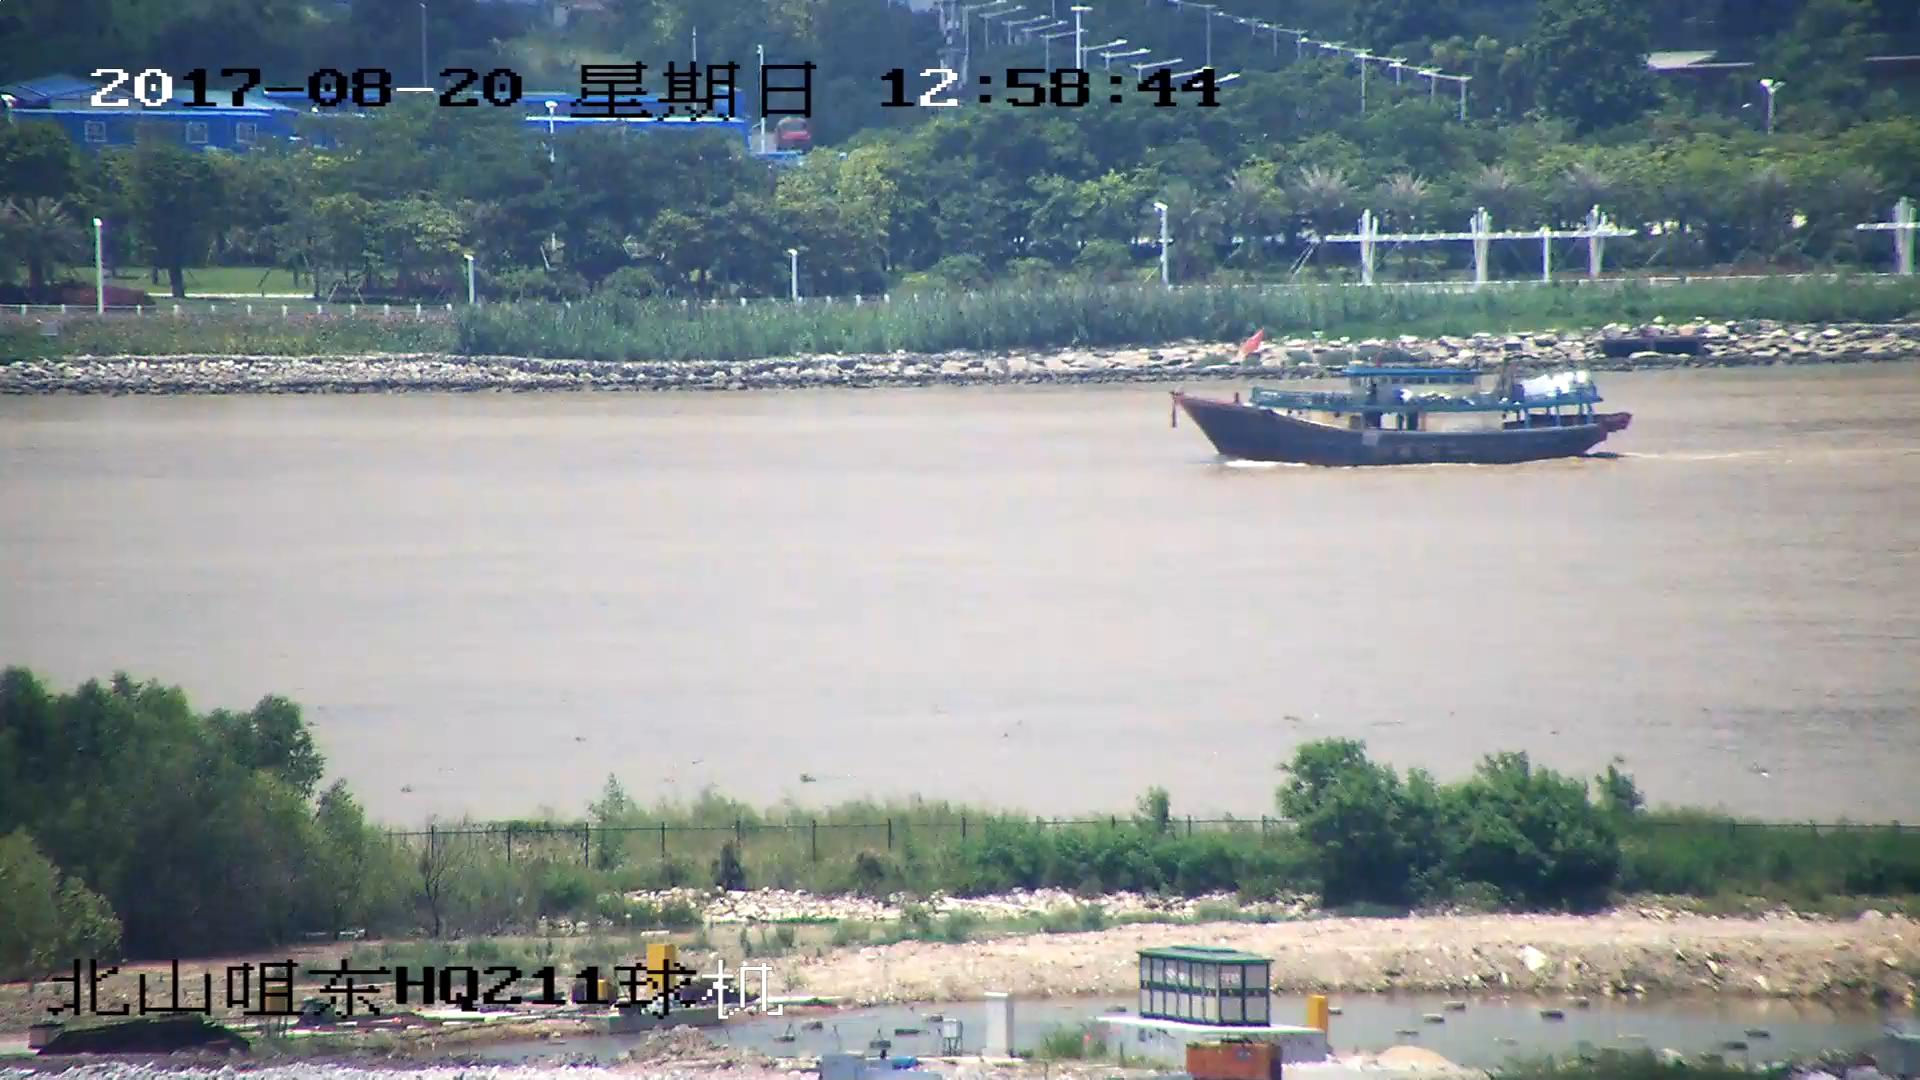fishing boat: (1167, 353, 1626, 465)
